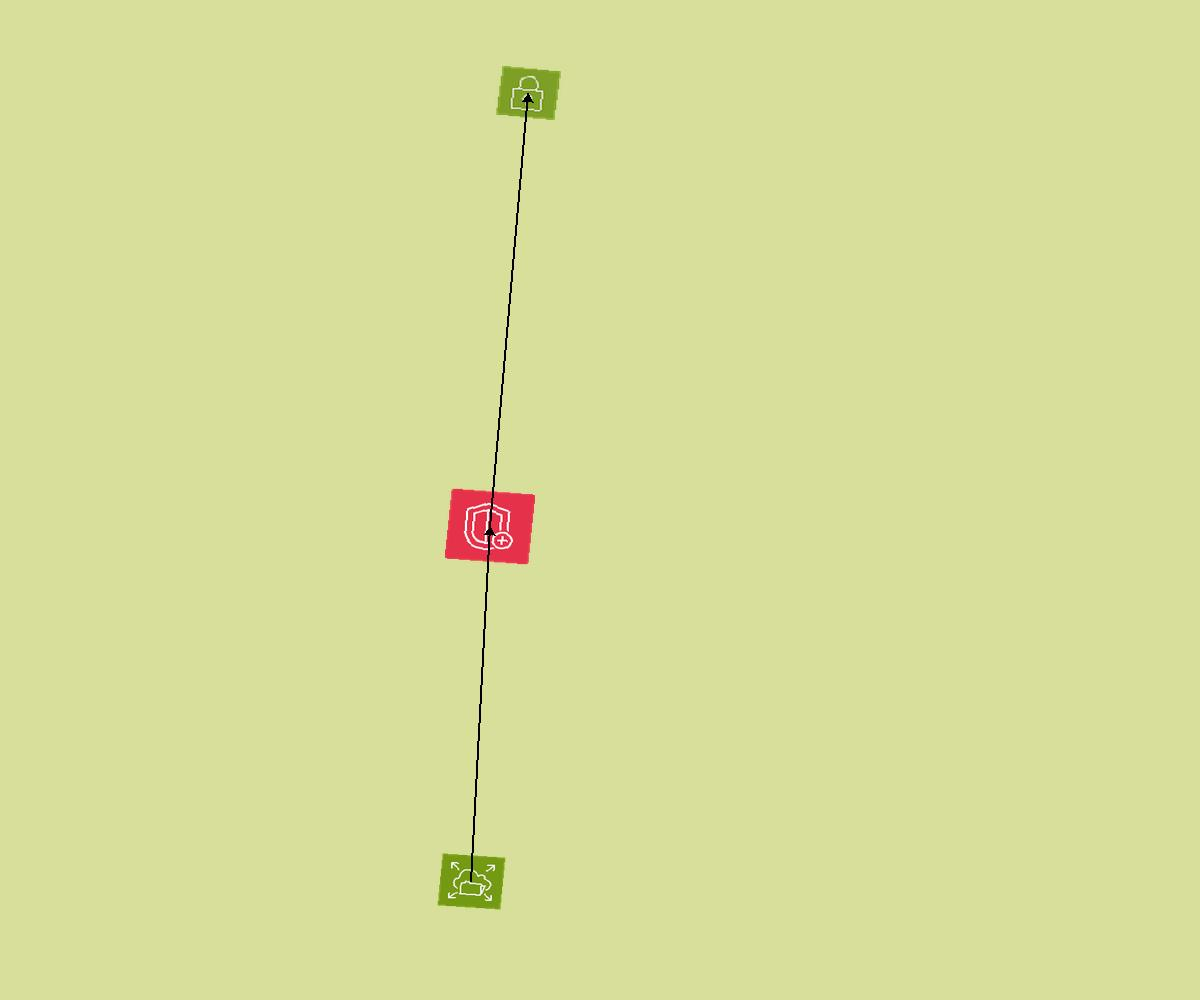AWS-EFS: (437, 853, 506, 910)
AWS-Public-subnet: (495, 65, 562, 121)
AWS-Shield: (444, 488, 536, 565)
